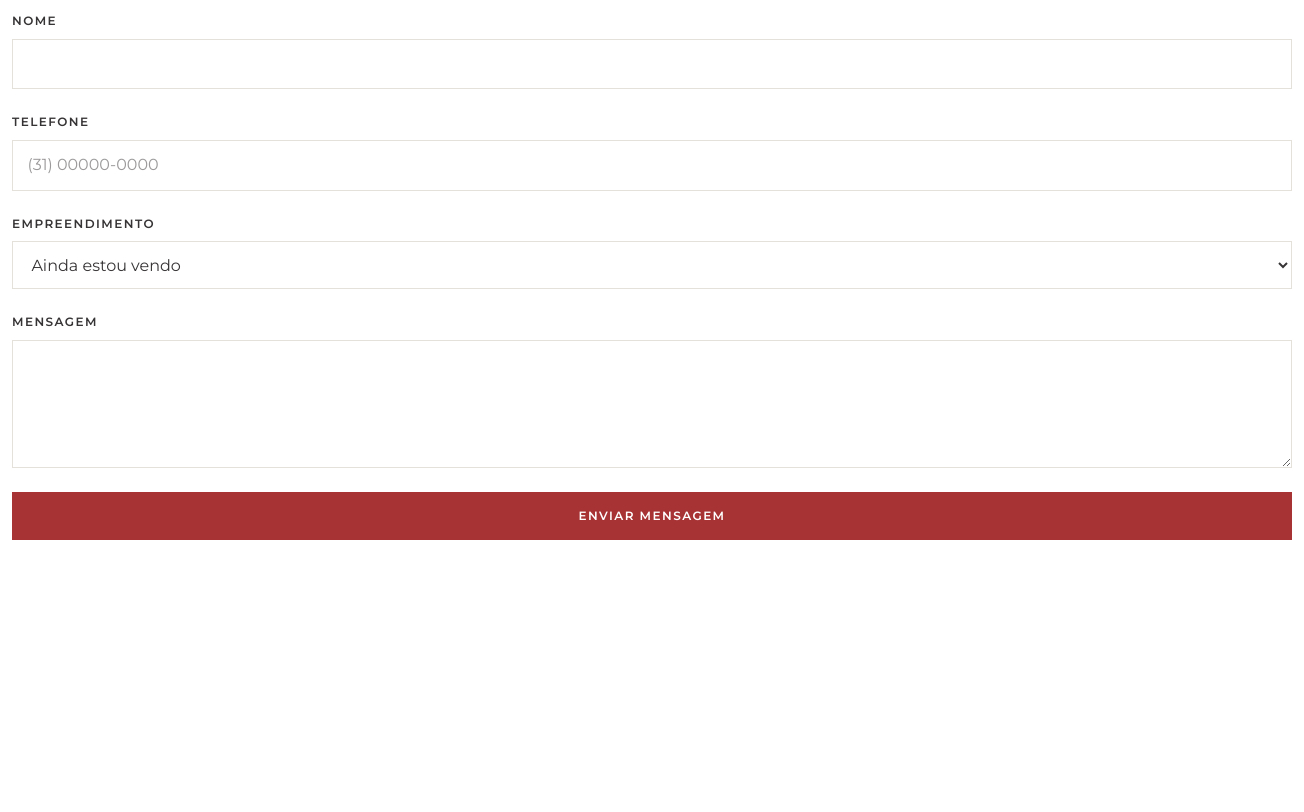
LeadForm › keeps the person on the form until Google Forms accepts the recado
Step 1. Submit the form "Enviar mensagem"
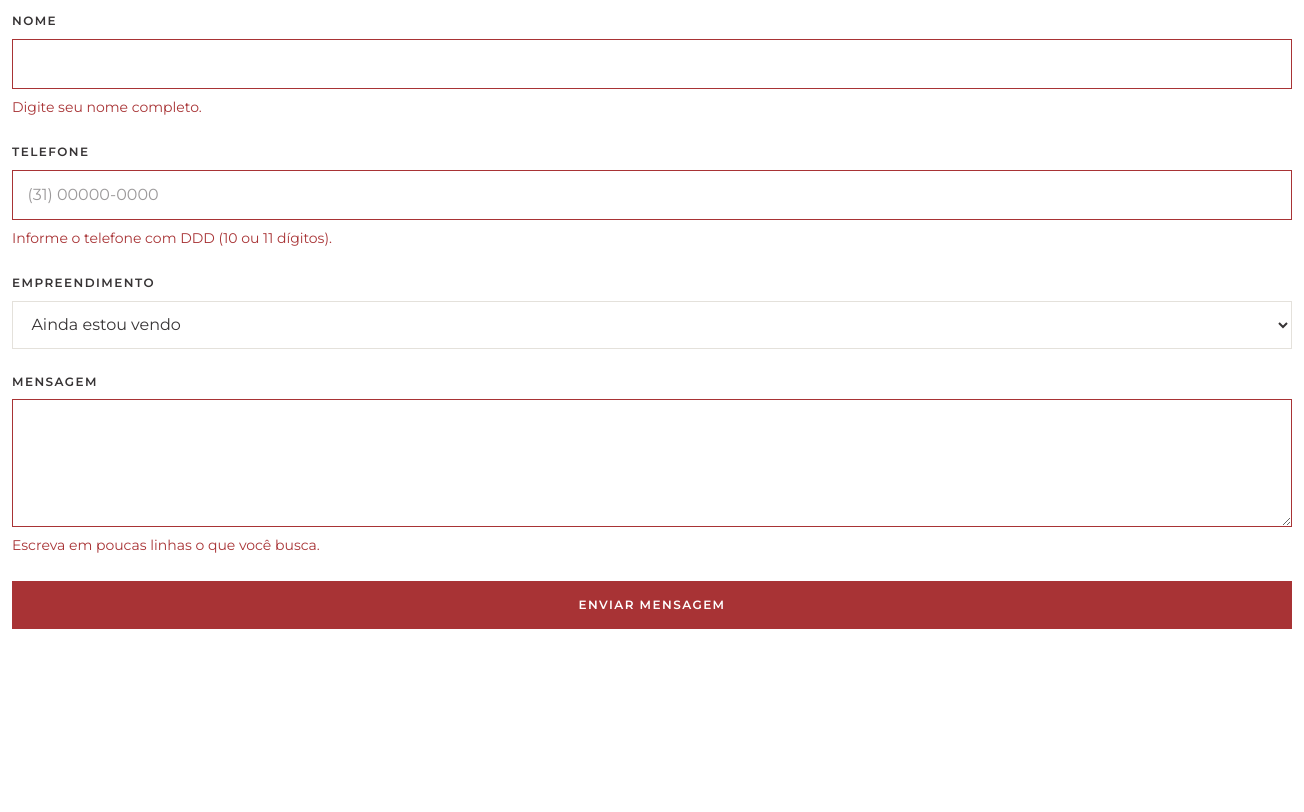
Expected: the text "Digite seu nome completo." is shown, x1=12 y1=98 x2=202 y2=116
Step 2. Type "Maria Silva" into the field labelled "Nome Digite seu nome completo." → (652, 64), box x1=12 y1=39 x2=1292 y2=89
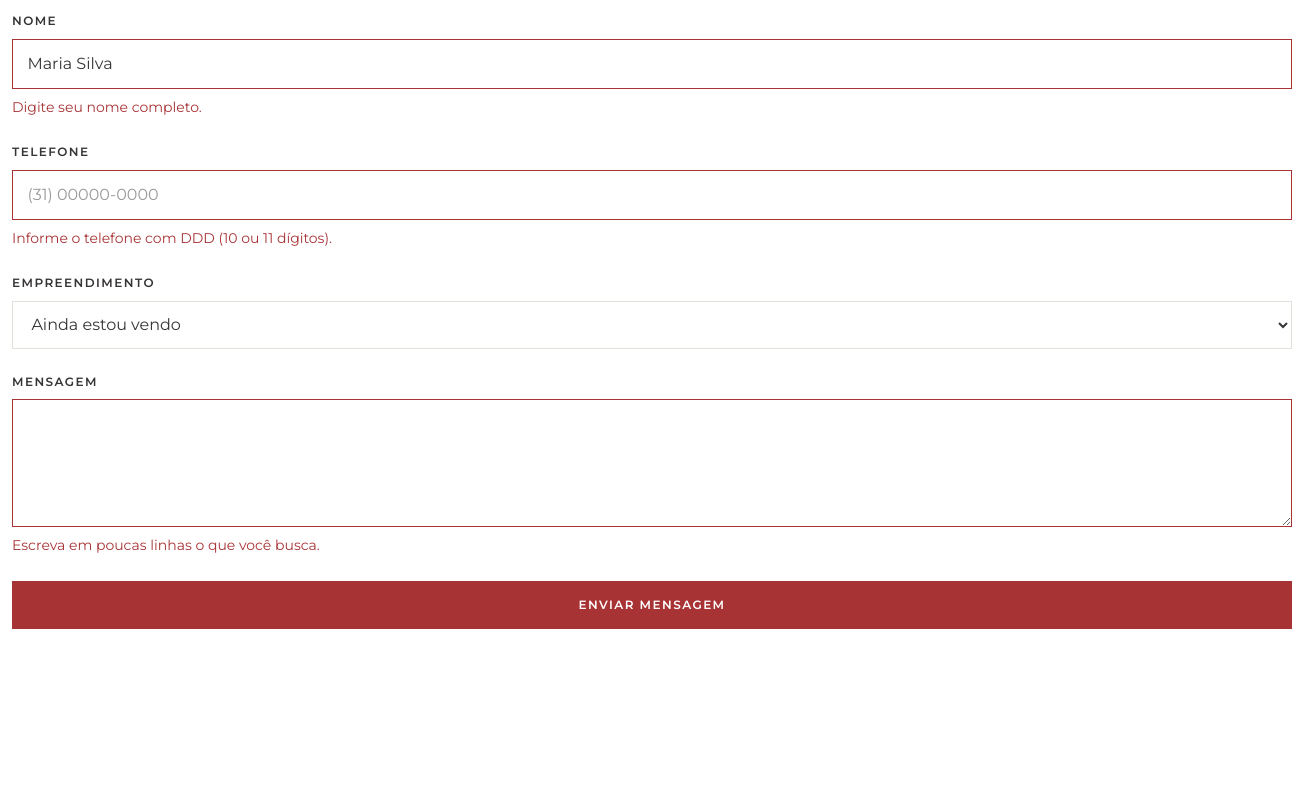
Step 3. Type "31999990000" into the field labelled "Telefone Informe o telefone com DDD (10 ou 11 dígitos)." → (652, 195), box x1=12 y1=170 x2=1292 y2=220
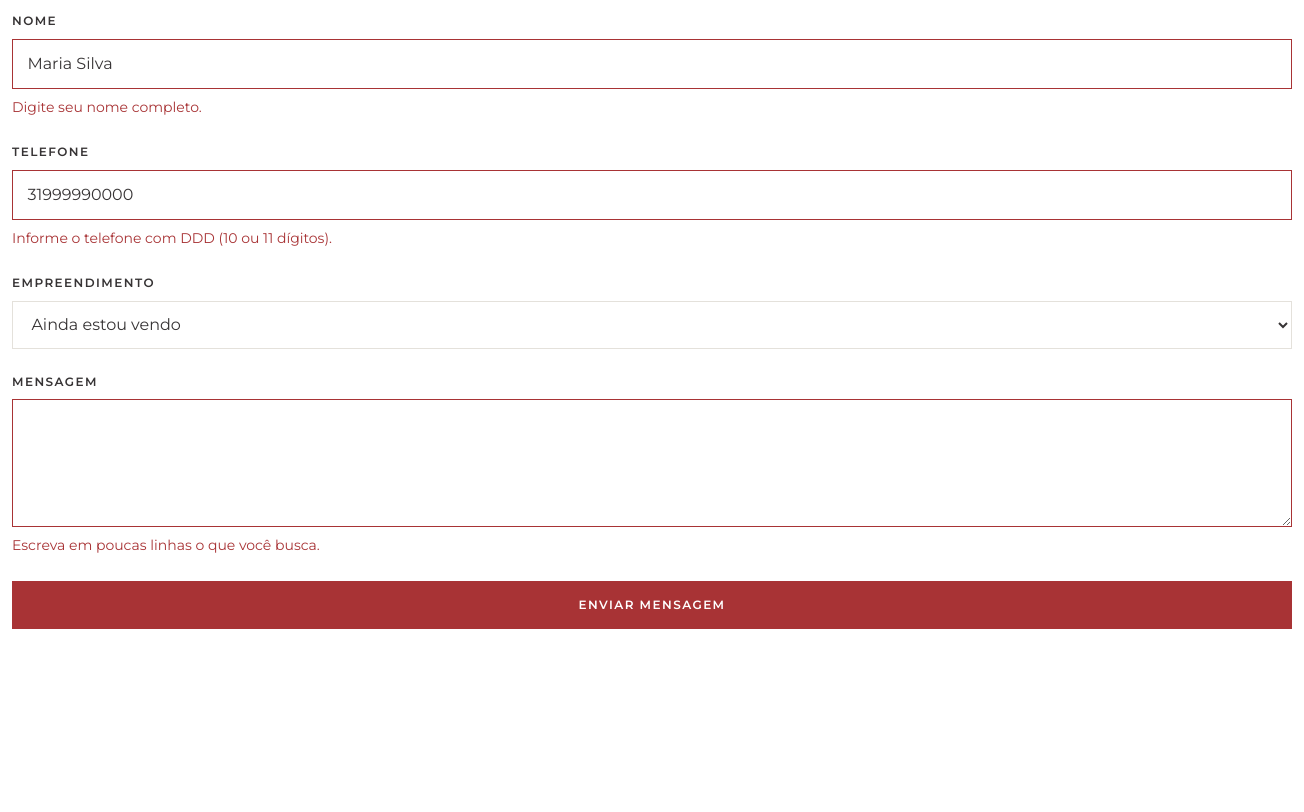
Step 4. Select "Recanto do Horizonte" in the dropdown labelled "Empreendimento" → (652, 325), box x1=12 y1=301 x2=1292 y2=349
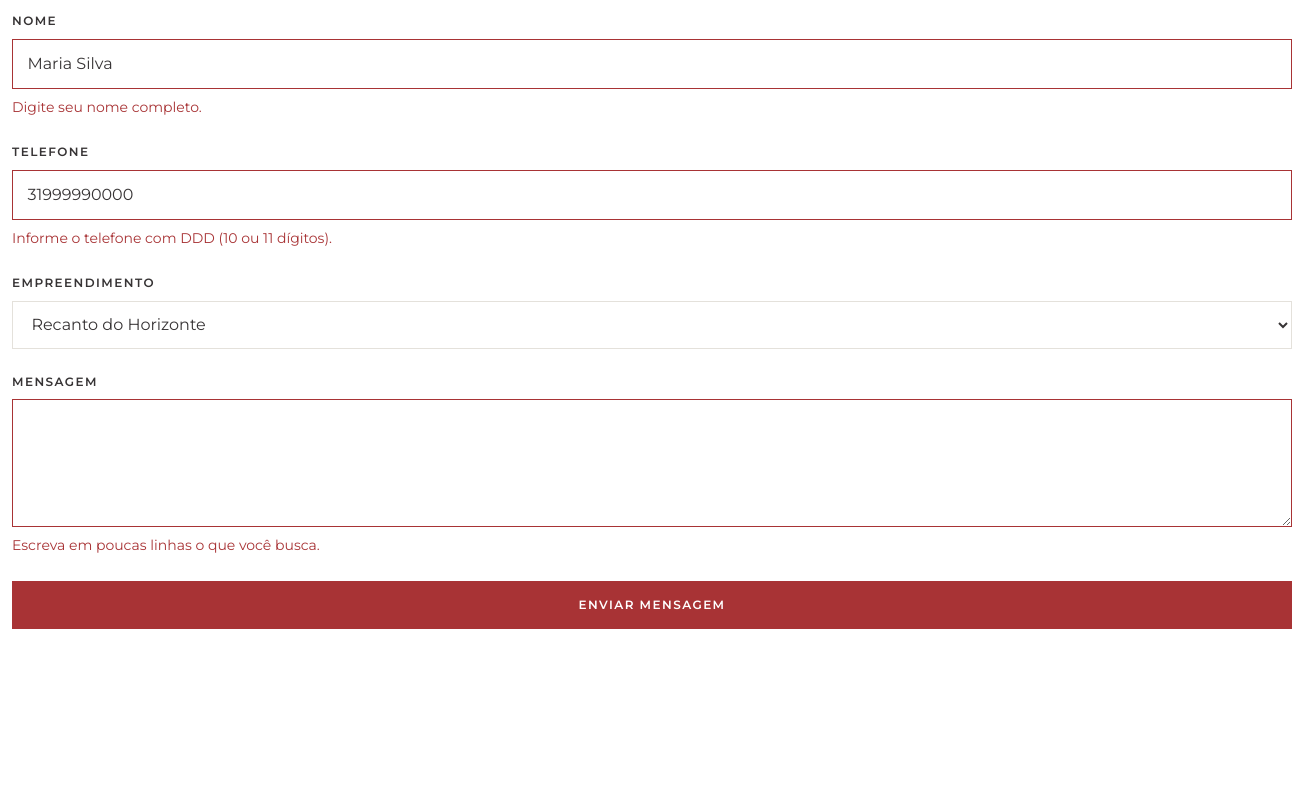
Step 5. Type "Quero saber das unidades no Canaã." into the text box labelled "Mensagem Escreva em poucas linhas o que você busca." → (652, 463), box x1=12 y1=399 x2=1292 y2=527
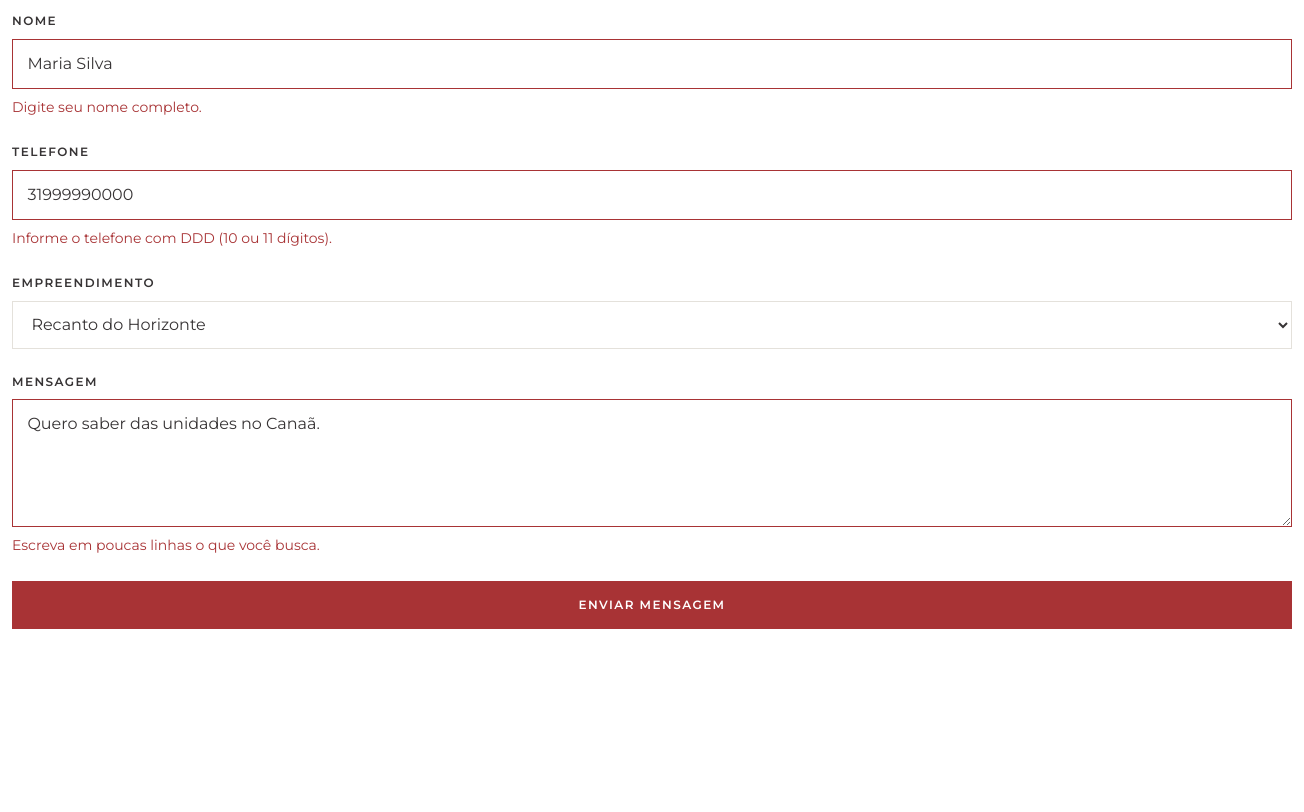
Step 6. Click the button "Enviar mensagem" → (652, 605), box x1=12 y1=581 x2=1292 y2=629
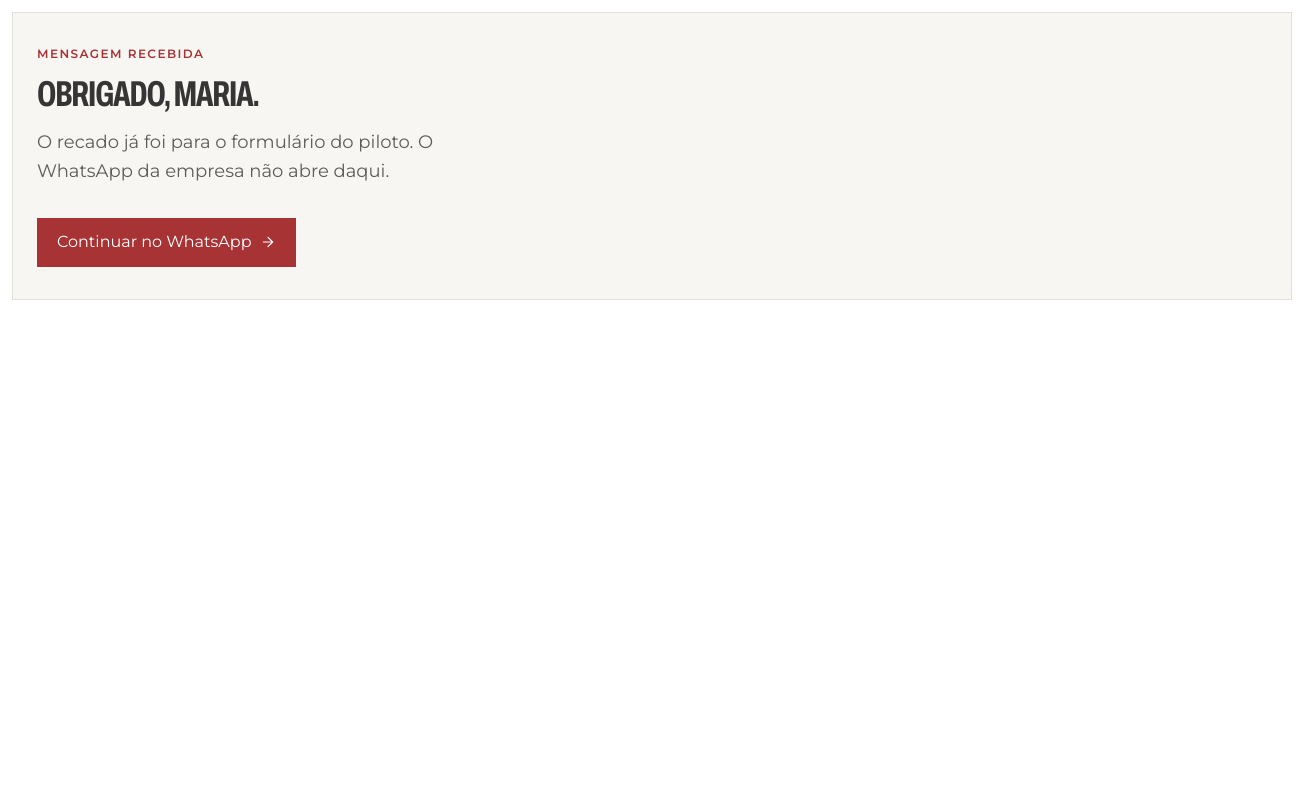
Expected: the heading "Obrigado, Maria." is shown, x1=37 y1=74 x2=259 y2=114
